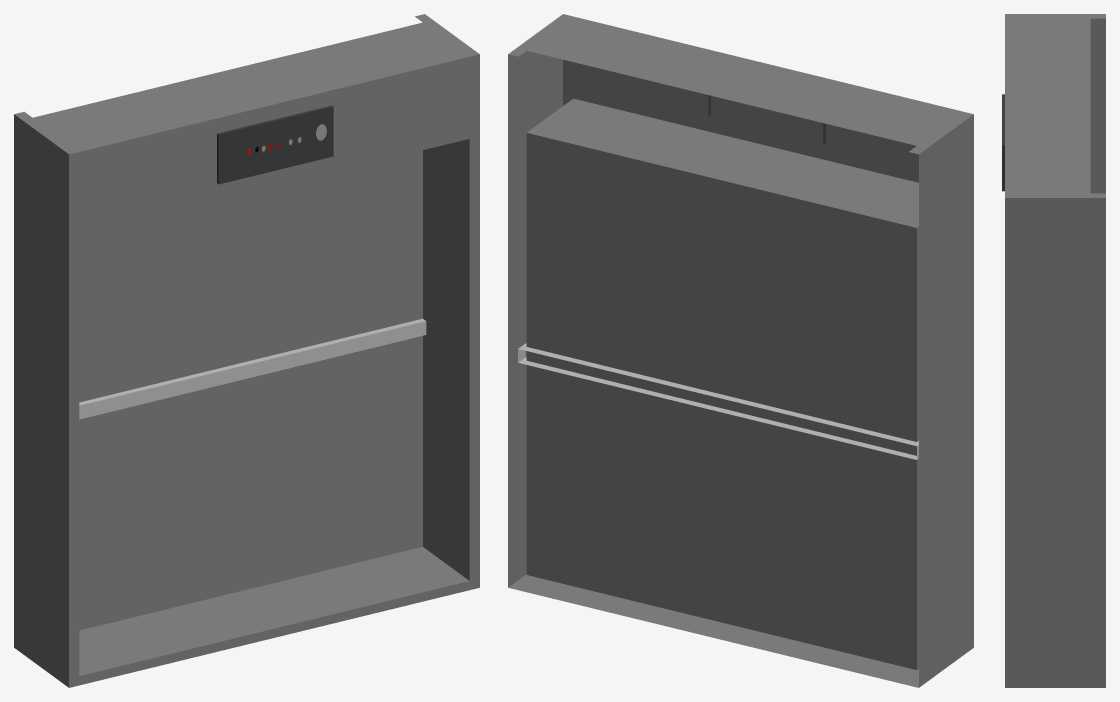
File: Fire_Elevator.fbx
3 renders of one model, left to right at view 1: azimuth 30°, elevation 25°; view 2: azimuth 150°, elevation 25°; view 3: azimuth 270°, elevation 25°, orthographic. The views are drawn at different scales.
Visible parts, largest first — view 1: Ev, Ev_parts1, Ev_parts2; view 2: Ev, Ev_parts1; view 3: Ev, Ev_parts2.
Part boxes in pixels (left/top/right/bottom): Ev: left=14, top=14, right=479, bottom=687; Ev_parts1: left=79, top=318, right=426, bottom=419; Ev_parts2: left=217, top=105, right=333, bottom=184; Ev: left=508, top=14, right=973, bottom=687; Ev_parts1: left=518, top=343, right=918, bottom=459; Ev: left=1005, top=14, right=1105, bottom=687; Ev_parts2: left=1002, top=94, right=1004, bottom=191.
Bounding box in the file's own units: 866 × 1074 × 207.
